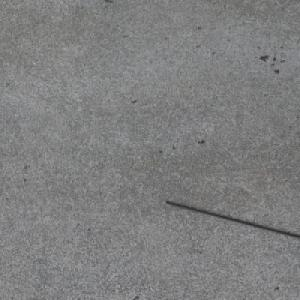LuggagePart: (164, 200, 300, 239)
